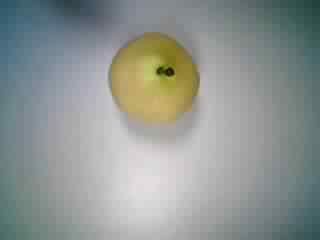pear: (101, 24, 207, 131)
